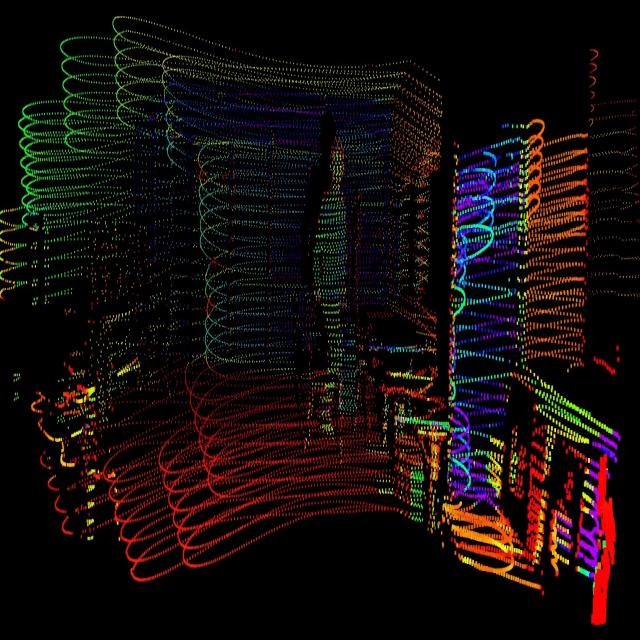human: (310, 124, 357, 445)
